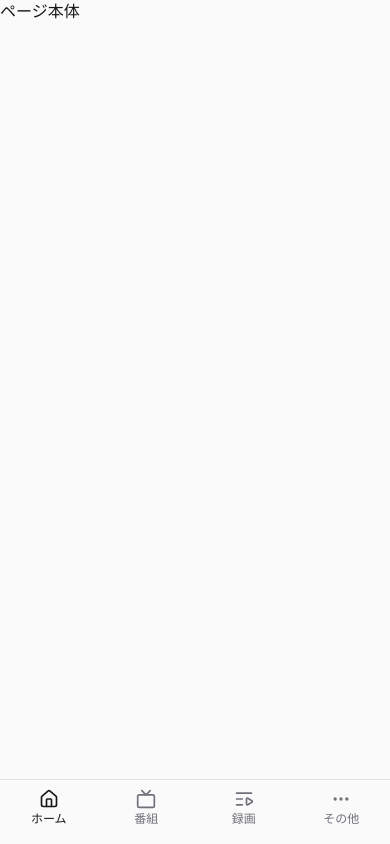
Test: モバイルの「その他」 › 中の並びは頻度順（ライブ/検索/ルール）で固定されている
Click the button "その他" at [341, 808], box [292,780,389,836]
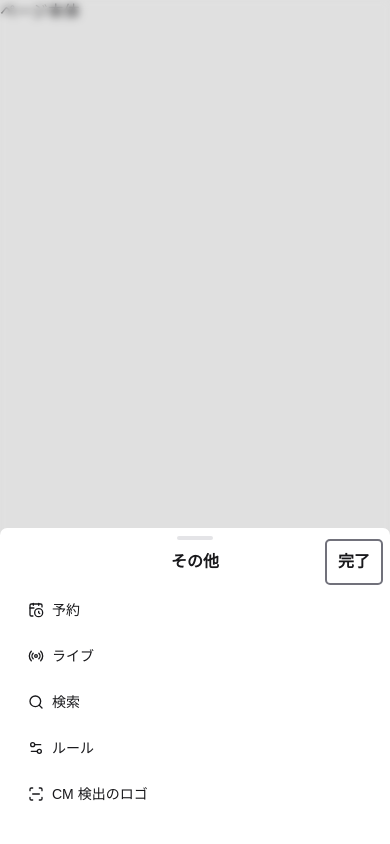
Expected: the links read "予約", "ライブ", "検索", "ルール", "CM 検出のロゴ", in this order, [28,602,80,618]; [28,648,94,664]; [28,694,80,710]; [28,740,94,756]; [28,786,148,802]
